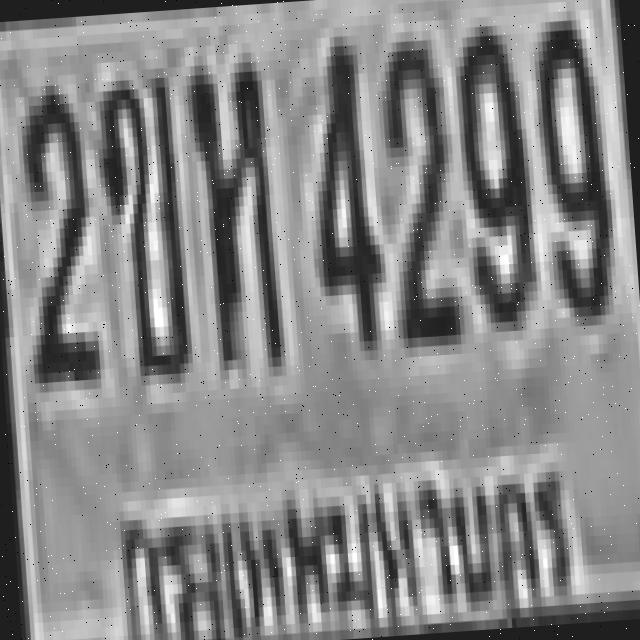11KhorKhai: (92, 67, 196, 387)
2: (375, 29, 466, 352), (13, 73, 104, 391)
4: (302, 24, 388, 350)
50HorHeep: (184, 46, 289, 382)
9: (526, 9, 620, 332), (452, 14, 541, 336)
Bangkok: (93, 439, 596, 640)
